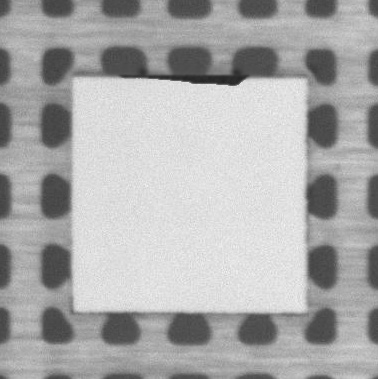DIE_BROKEN: (118, 72, 252, 90)
